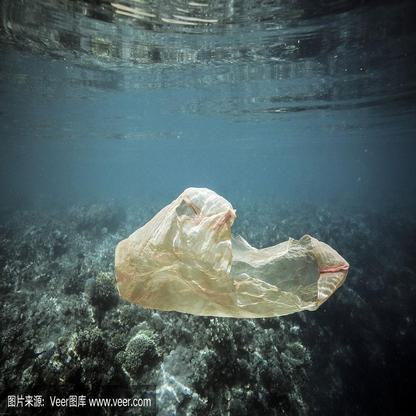plastic bag: (113, 187, 350, 318)
